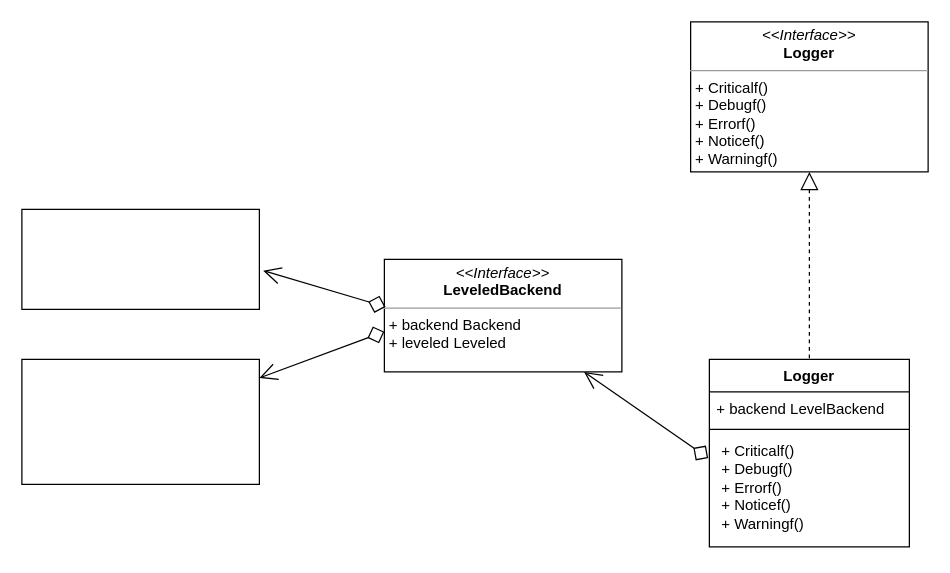
Some shapes in this 950 by 573 pixel diagram are drawn without their labels. The shapes that lost their labels are listed below. From the top down, each one's centre as x and y in pixels, then its label:
At pixel 140 258: "<<Interface>> Backend + Log()".
At pixel 140 421: "<<Interface>> Leveled + GetLevel() + SetLevel() + IsEnabledFor".
